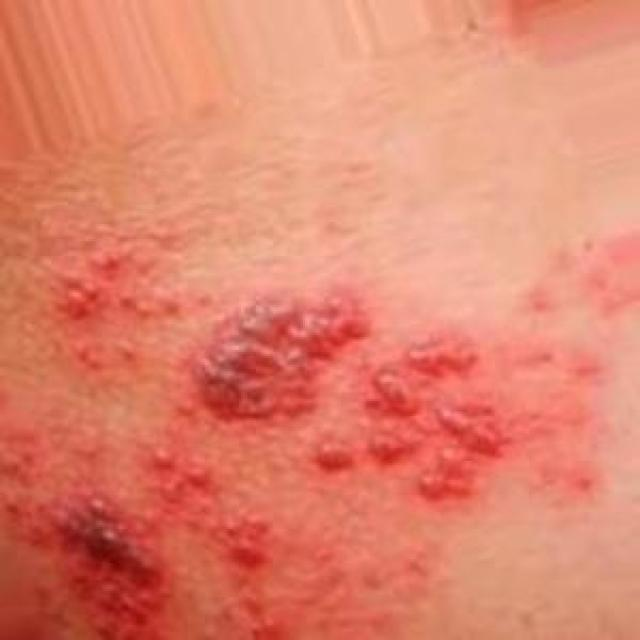Shingles: (43, 228, 500, 626)
